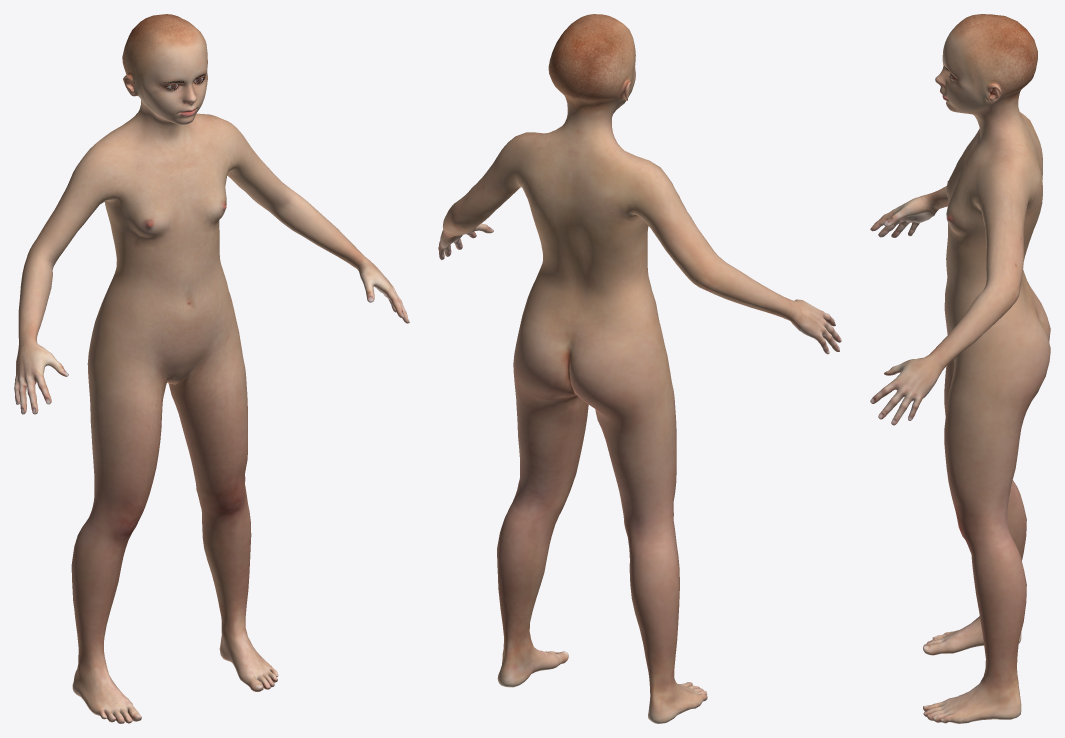
Rendered from ember.glb.
3 views of the same model, side by side, from view 1: azimuth 30°, elevation 25°; view 2: azimuth 150°, elevation 25°; view 3: azimuth 270°, elevation 25° (orthographic).
Visible parts, largest first — view 1: Human; view 2: Human; view 3: Human.
Boxes of the visible parts, x1,y1,x2,y2 form: Human: (14, 14, 409, 723); Human: (438, 14, 841, 723); Human: (870, 14, 1050, 723).
Bounding box in the file's own units: 0.8175 × 1.35 × 0.3304.
7 materials, 6 textured.
